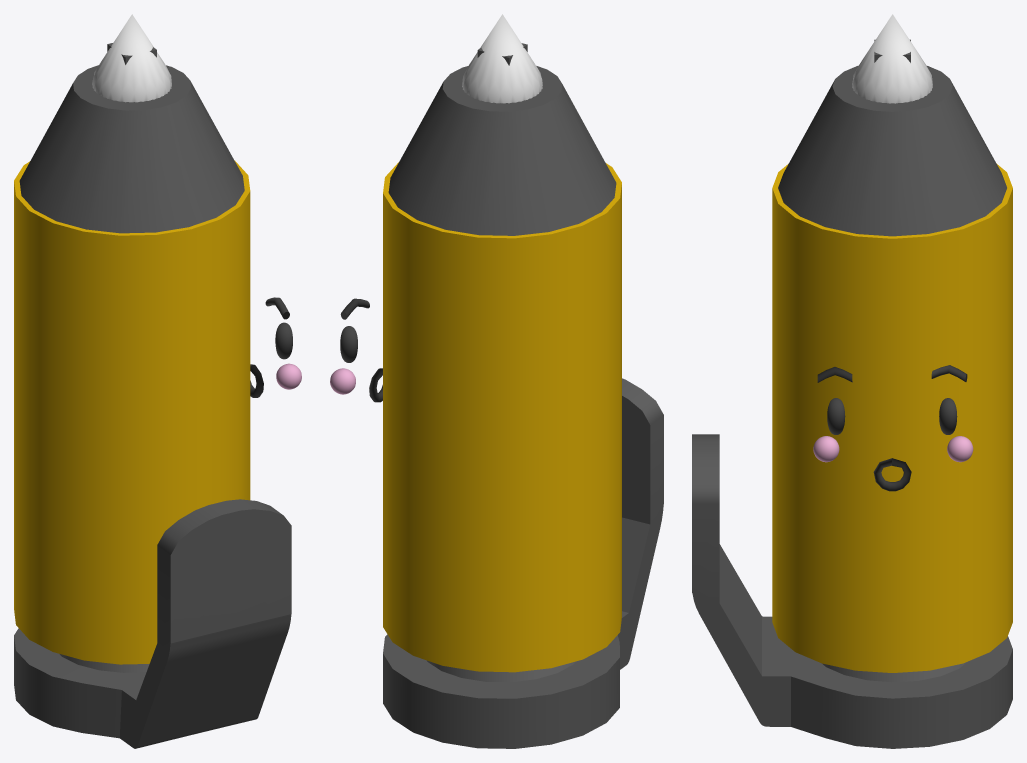
Rendered from Pen_V2.fbx.
3 views of the same model, side by side, from view 1: azimuth 30°, elevation 25°; view 2: azimuth 150°, elevation 25°; view 3: azimuth 270°, elevation 25° (orthographic).
Parts seen in each view (by area): view 1: Base1, Ressort1, Mine, OeilD, JoueG; view 2: Base1, Ressort1, Mine, OeilG, JoueD; view 3: Base1, Ressort1, Mine, Bouche, OeilD, OeilG, JoueG, JoueD.
Part boxes in pixels (x1,y1,x2,y2): Base1: (14, 65, 250, 664); Ressort1: (14, 499, 291, 748); Mine: (92, 14, 171, 102); OeilD: (275, 322, 292, 359); JoueG: (276, 363, 301, 389); Base1: (383, 66, 621, 672); Ressort1: (383, 378, 663, 748); Mine: (462, 14, 542, 103); OeilG: (340, 326, 357, 362); JoueD: (330, 368, 355, 394); Base1: (772, 65, 1012, 672); Ressort1: (692, 434, 1012, 748); Mine: (852, 14, 932, 103); Bouche: (873, 458, 911, 491); OeilD: (827, 398, 845, 434); OeilG: (939, 398, 957, 434); JoueG: (813, 436, 839, 462); JoueD: (947, 436, 973, 462).
Size of the model in its own units: 2.32 by 6.28 by 2.67.
